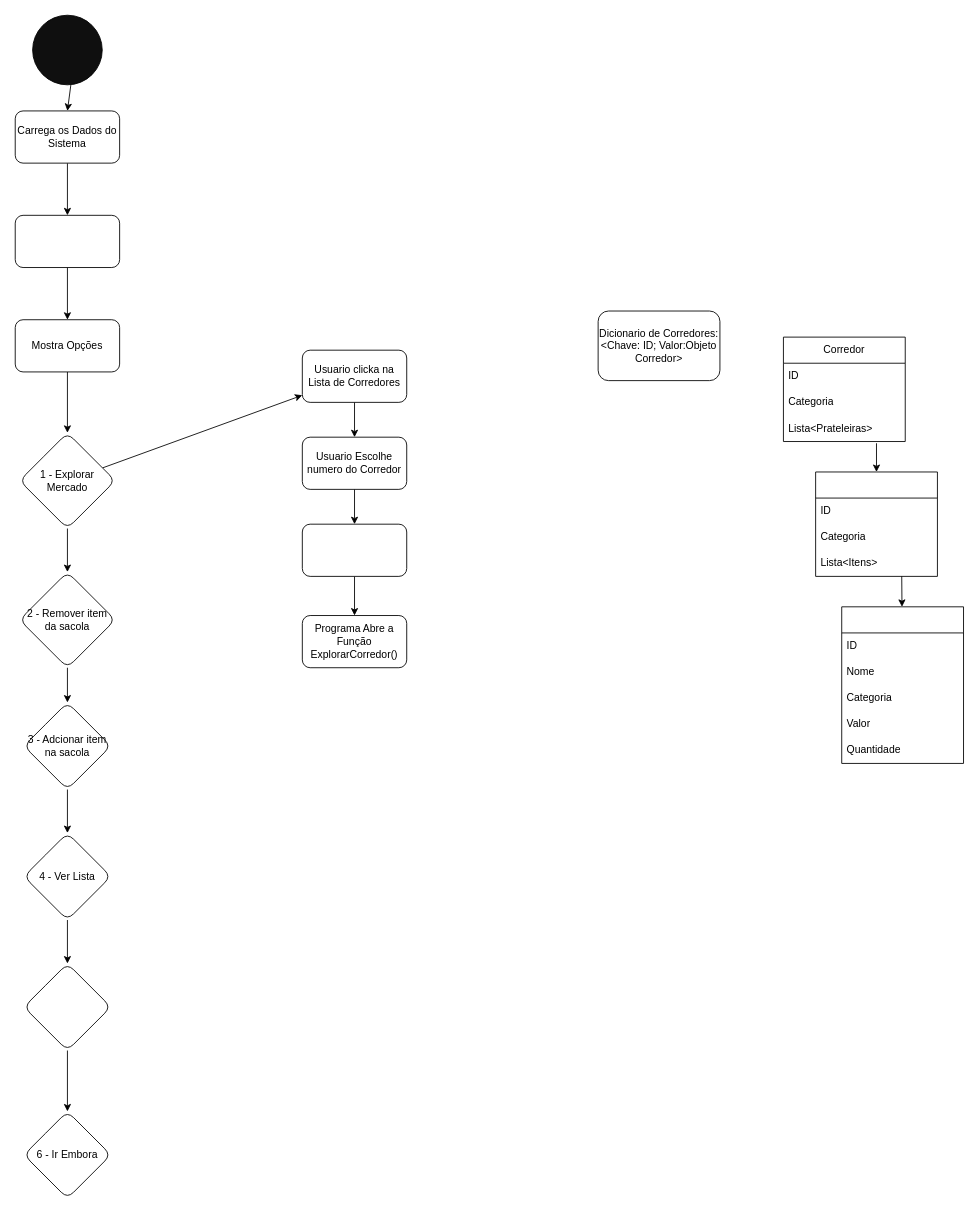
Some shapes in this 979 by 1214 pixel diagram are drawn without their labels. The shapes that lost their labels are listed below. From the top down, each one's box as (x1, y1, x2, y2) in pixels, then its label:
(32, 14, 102, 85): Inicio
(14, 214, 120, 268): Mostra Texto Inicial
(815, 471, 937, 576): Prateleira
(301, 523, 407, 576): Programa Percorre o Dicionario Corredor Pelo ID
(841, 606, 964, 763): Itens
(23, 963, 111, 1051): 5 - Comprar tudo
